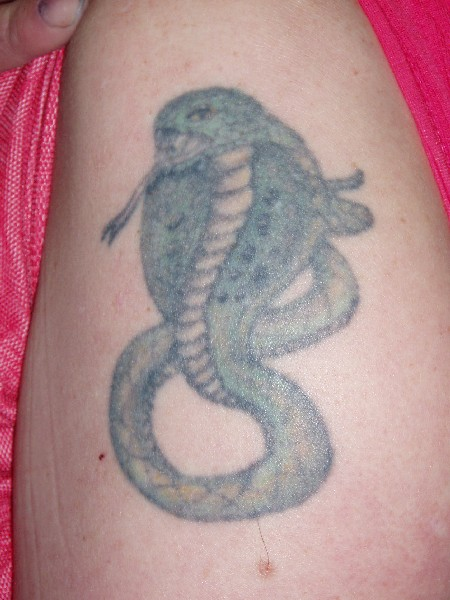tatu7_zmeya: (72, 53, 419, 515)
